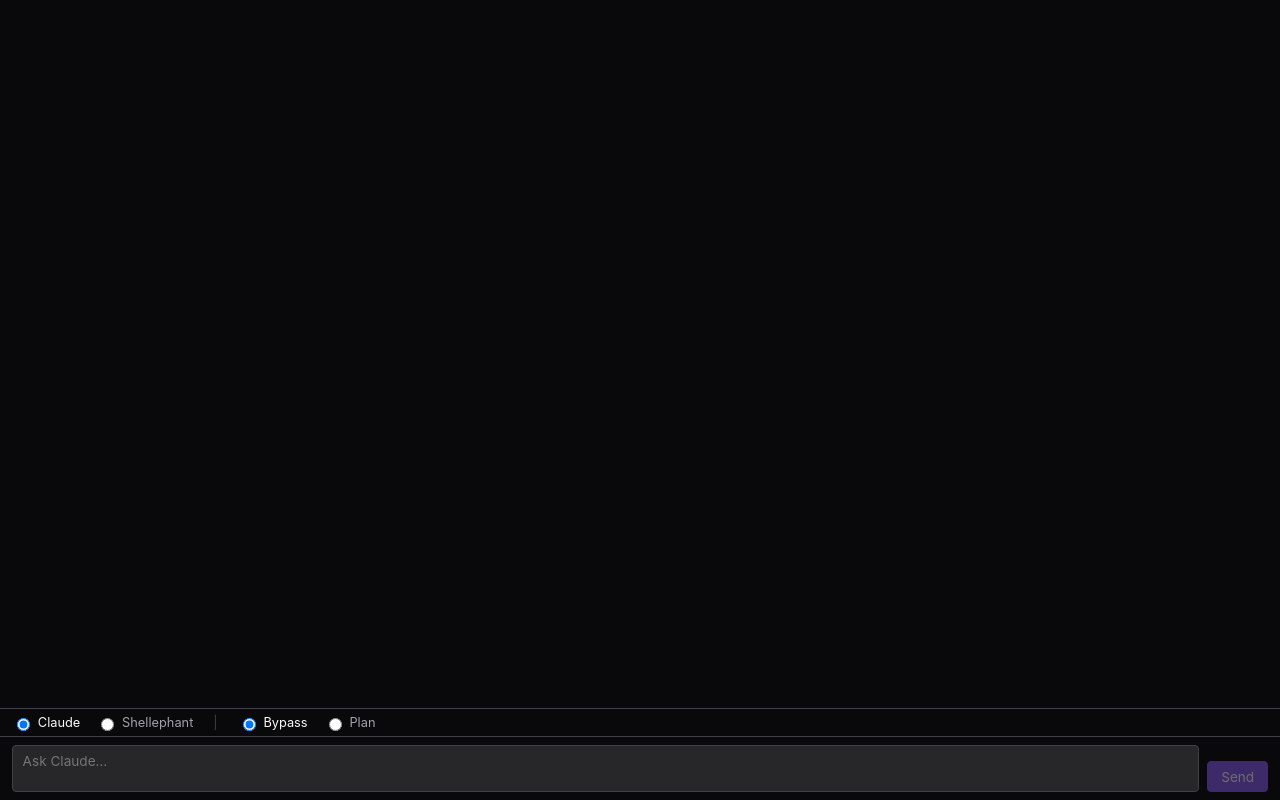
AssistedPanel › shows cancel button while running
Type "go" into the text box at (606, 769), box [12,745,1199,792]
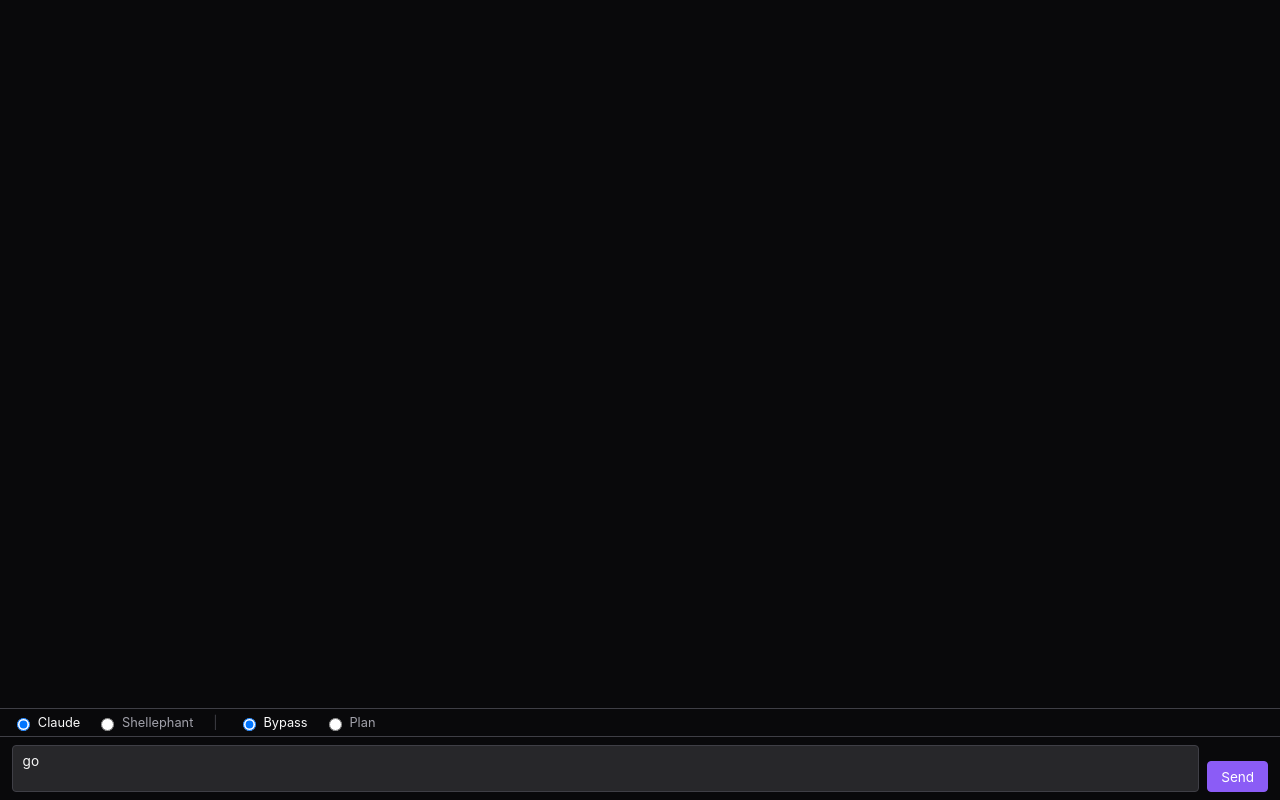
Click the button "Send" at (1238, 777), box [1207,761,1268,792]
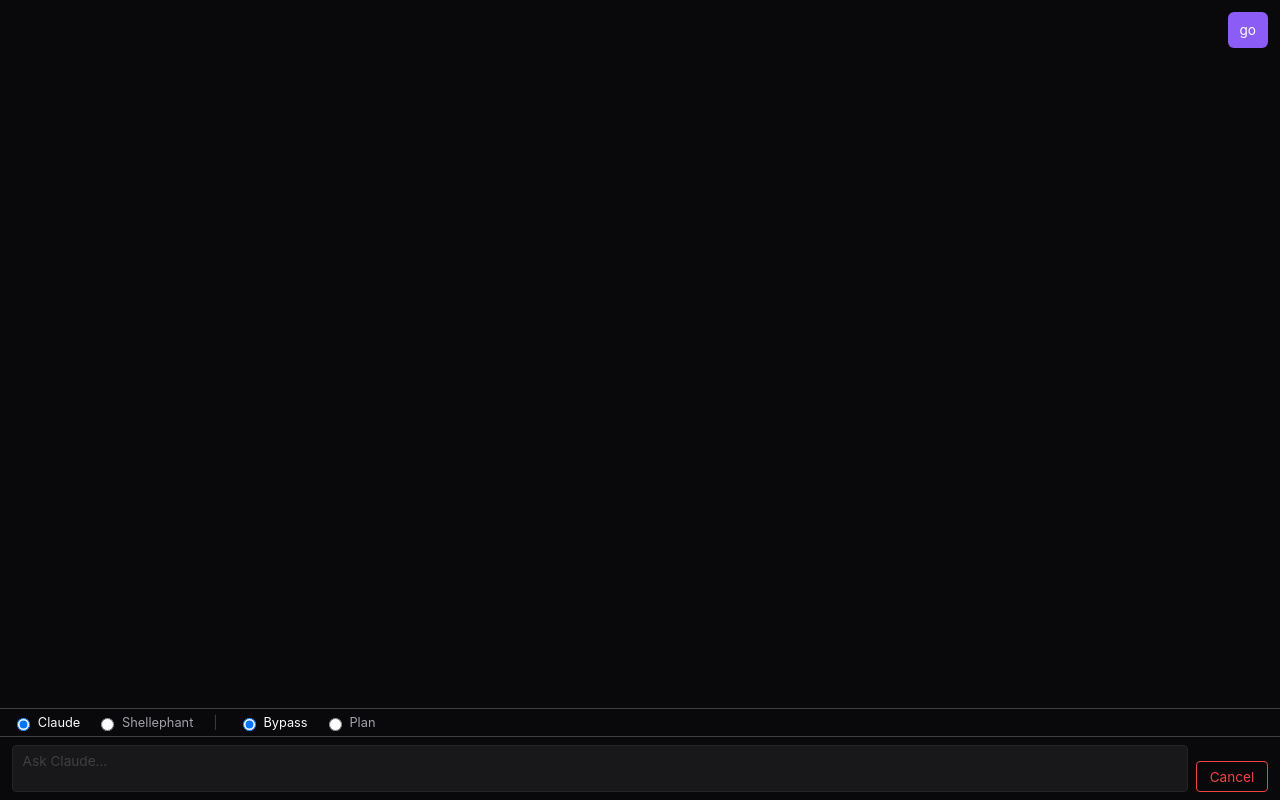
Expected: the button "Cancel" is shown, [1196,761,1268,792]
